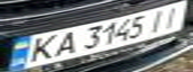1: (100, 20, 121, 46)
3: (78, 24, 103, 51)
4: (115, 17, 136, 43)
5: (127, 14, 151, 39)
A: (48, 29, 81, 57)
I: (154, 3, 190, 30), (142, 8, 172, 34)
K: (18, 34, 66, 64)
